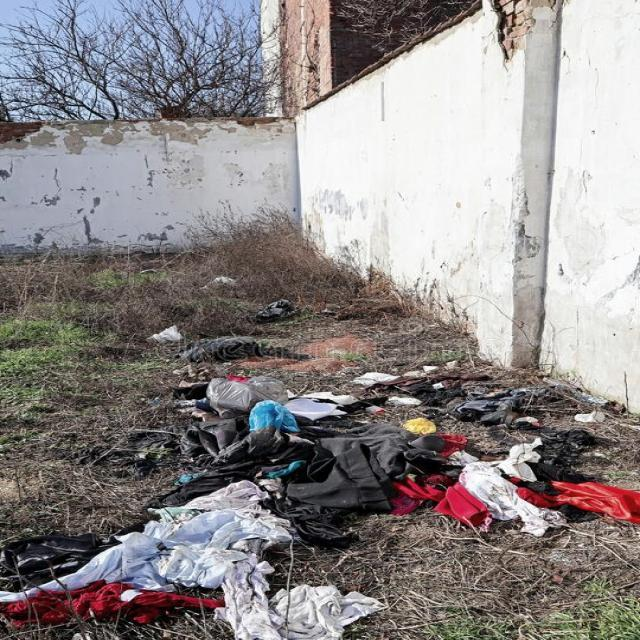clothes: (69, 456, 626, 640)
